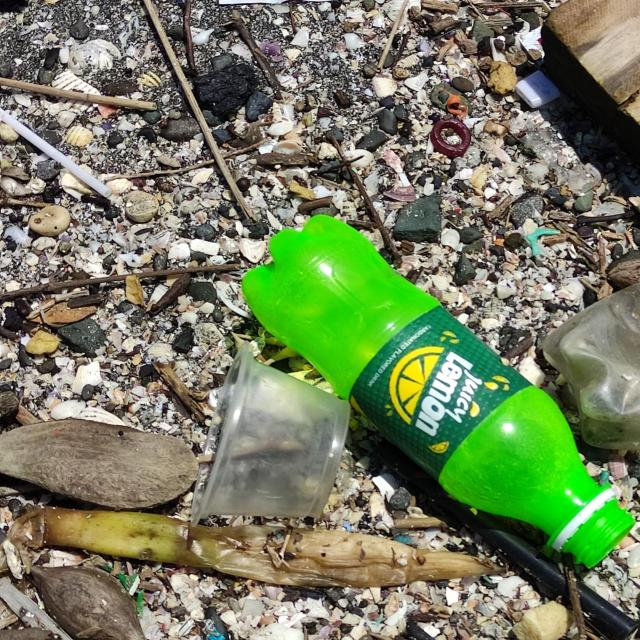plastic_waste: (242, 217, 639, 577), (191, 343, 351, 529), (1, 83, 109, 204)
